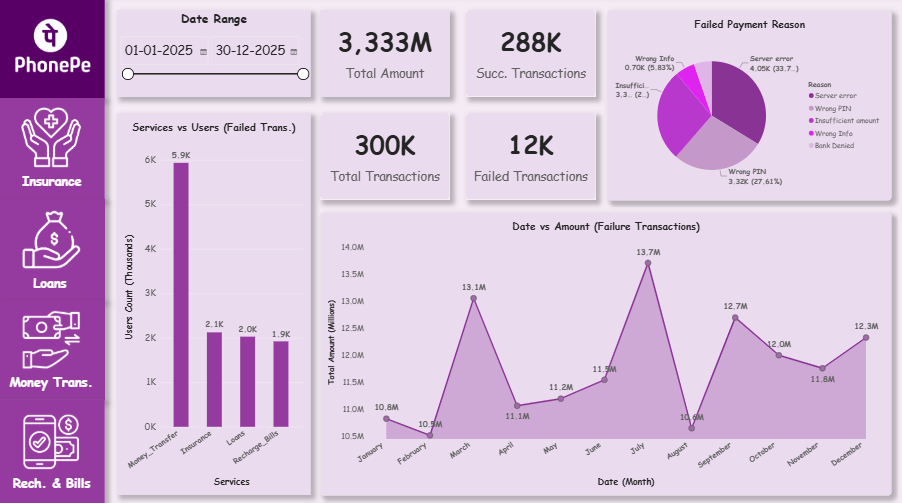

The dashboard page shown, as its layout file describes it:
{"tool":"powerbi","page":{"name":"Home","canvas":[1920,1080],"ordinal":0},"visuals":[{"type":"group","id":"g1","title":"Group 1","box":[0,0,227.5,216],"z":0},{"type":"shape","box":[0,0,227.5,216],"z":0,"group":"g1"},{"type":"shape","box":[0,215,227.5,216],"z":1000,"group":"g2"},{"type":"group","id":"g2","title":"Group 2","box":[0,215,227.5,216],"z":1000},{"type":"group","id":"g3","title":"Group 3","box":[0,430,227.5,215],"z":2000},{"type":"shape","box":[0,430,227.5,215],"z":2000,"group":"g3"},{"type":"group","id":"g4","title":"Group 4","box":[0,645,227.5,212.5],"z":3000},{"type":"shape","box":[0,645,227.5,212.5],"z":3000,"group":"g4"},{"type":"shape","box":[0,856.8,227.5,219],"z":4000,"group":"g5"},{"type":"group","id":"g5","title":"Group 5","box":[0,856.8,227.5,219],"z":4000},{"type":"image","box":[22.5,27.5,185,160],"z":5000,"group":"g1"},{"type":"actionButton","box":[0,215,227.5,215],"z":5000},{"type":"image","box":[32.5,222.5,162.5,150],"z":6000,"group":"g2"},{"type":"actionButton","box":[0,447.5,227.5,215],"z":6000},{"type":"image","box":[37.5,447.5,155,135],"z":7000,"group":"g3"},{"type":"actionButton","box":[0,662.5,227.5,215],"z":7000},{"type":"image","box":[35,662.5,157.5,135],"z":8000,"group":"g4"},{"type":"actionButton","box":[0,862.5,227.5,215],"z":8000},{"type":"slicer","title":"Date Range","fields":{"Values":["All_Transactions.Date"]},"box":[253,27.6,412.4,185],"z":9000},{"type":"image","box":[32.5,877.5,162.5,135],"z":9000,"group":"g5"},{"type":"cardVisual","fields":{"Data":["Sum(All_Transactions.Amount)"]},"box":[684.6,27.6,276.4,185],"z":10000},{"type":"textbox","box":[37.5,372.5,152.5,47.5],"z":10000,"group":"g2"},{"type":"cardVisual","fields":{"Data":["Count(All_Transactions.Transaction_ID)"]},"box":[995,27.6,276.4,185],"z":11000},{"type":"textbox","box":[35,590,152.5,47.5],"z":11000,"group":"g3"},{"type":"cardVisual","fields":{"Data":["CountNonNull(All_Transactions.Amount)"]},"box":[684.6,246.6,276.4,185],"z":12000},{"type":"textbox","box":[5,800,217.5,47.5],"z":12000,"group":"g4"},{"type":"cardVisual","fields":{"Data":["CountNonNull(All_Transactions.Amount)"]},"box":[995,246.6,276.4,185],"z":13000},{"type":"textbox","box":[15,1015,197.5,45],"z":13000,"group":"g5"},{"type":"pieChart","title":"Failed Payment Reason","fields":{"Category":["All_Transactions.Reason"],"Y":["CountNonNull(All_Transactions.Service)"]},"box":[1295,27.5,605,405],"z":14000},{"type":"lineChart","title":"Date vs Amount (Failure Transactions)","fields":{"Category":["All_Transactions.Date.Variation.Date Hierarchy.Month"],"Y":["Sum(All_Transactions.Amount)"]},"box":[685,457.5,1215,602.5],"z":15000},{"type":"clusteredColumnChart","title":"Services vs Users (Failed Trans.)","fields":{"Category":["All_Transactions.Service"],"Y":["CountNonNull(All_Transactions.User_ID)"]},"box":[253,246.6,412.4,812.1],"z":16000}]}

Visuals, with their boxes in screenshot pixels (x1, y1, x2, y2), scaled from the page's 1920x1080 canvas onto the 902x503 screenshot:
"Group 1" group: <region>0, 0, 107, 101</region>
shape: <region>0, 0, 107, 101</region>
shape: <region>0, 100, 107, 201</region>
"Group 2" group: <region>0, 100, 107, 201</region>
"Group 3" group: <region>0, 200, 107, 300</region>
shape: <region>0, 200, 107, 300</region>
"Group 4" group: <region>0, 300, 107, 399</region>
shape: <region>0, 300, 107, 399</region>
shape: <region>0, 399, 107, 501</region>
"Group 5" group: <region>0, 399, 107, 501</region>
image: <region>11, 13, 97, 87</region>
actionButton: <region>0, 100, 107, 200</region>
image: <region>15, 104, 92, 173</region>
actionButton: <region>0, 208, 107, 309</region>
image: <region>18, 208, 90, 271</region>
actionButton: <region>0, 309, 107, 409</region>
image: <region>16, 309, 90, 371</region>
actionButton: <region>0, 402, 107, 502</region>
"Date Range" slicer: <region>119, 13, 313, 99</region>
image: <region>15, 409, 92, 472</region>
cardVisual - Sum(All_Transactions.Amount): <region>322, 13, 451, 99</region>
textbox: <region>18, 173, 89, 196</region>
cardVisual - Count(All_Transactions.Transaction_ID): <region>467, 13, 597, 99</region>
textbox: <region>16, 275, 88, 297</region>
cardVisual - CountNonNull(All_Transactions.Amount): <region>322, 115, 451, 201</region>
textbox: <region>2, 373, 105, 395</region>
cardVisual - CountNonNull(All_Transactions.Amount): <region>467, 115, 597, 201</region>
textbox: <region>7, 473, 100, 494</region>
"Failed Payment Reason" pieChart: <region>608, 13, 893, 201</region>
"Date vs Amount (Failure Transactions)" lineChart: <region>322, 213, 893, 494</region>
"Services vs Users (Failed Trans.)" clusteredColumnChart: <region>119, 115, 313, 493</region>
